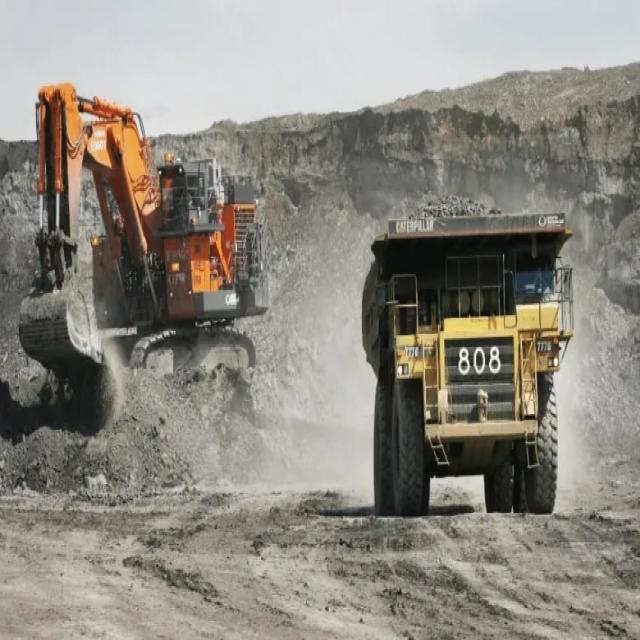dump_truck: (348, 162, 586, 526)
excavator: (16, 67, 282, 413)
